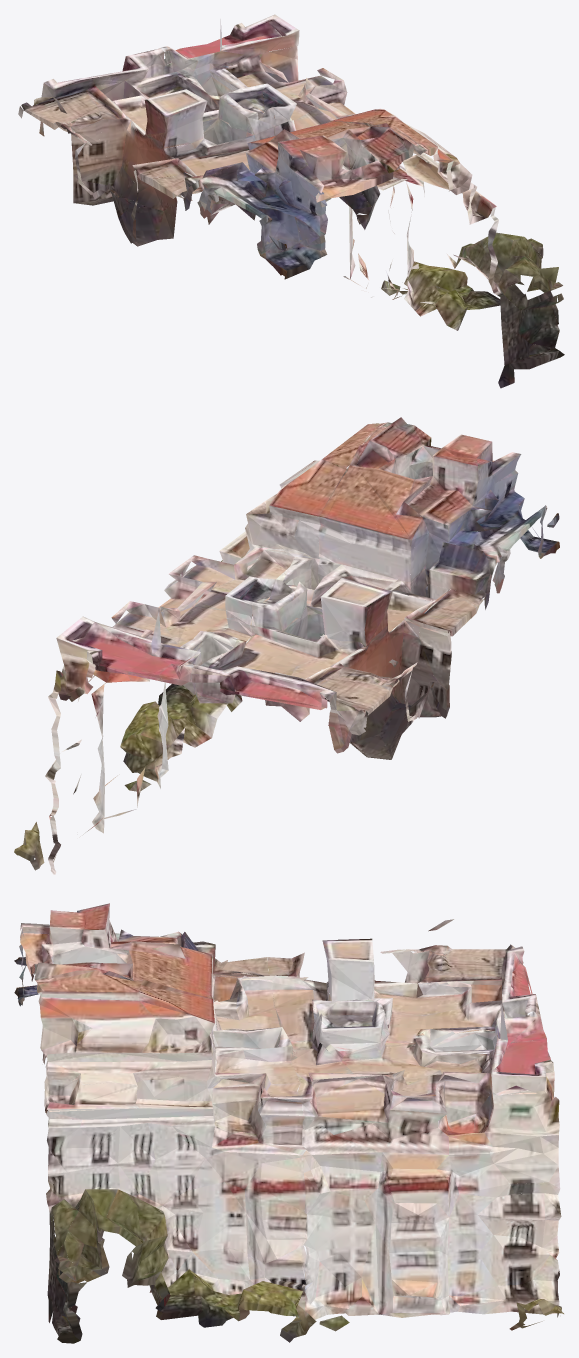
The picture shows the model from 3 angles, top to bottom: view 1: azimuth 30°, elevation 25°; view 2: azimuth 150°, elevation 25°; view 3: azimuth 270°, elevation 25°; orthographic projection. The views are drawn at different scales.
Parts seen in each view (by area): view 1: Mesh_0, eigenhaus; view 2: Mesh_0, eigenhaus; view 3: eigenhaus, Mesh_0.
Part boxes in pixels (box(x1,y1,x2,y2)): Mesh_0: box(18, 14, 564, 388); eigenhaus: box(94, 19, 445, 322); Mesh_0: box(14, 417, 559, 874); eigenhaus: box(77, 498, 447, 837); eigenhaus: box(189, 938, 544, 1331); Mesh_0: box(14, 903, 563, 1343).
Bounding box in the file's own units: 33.65 × 25.64 × 41.54.
2 materials, 2 textured.
